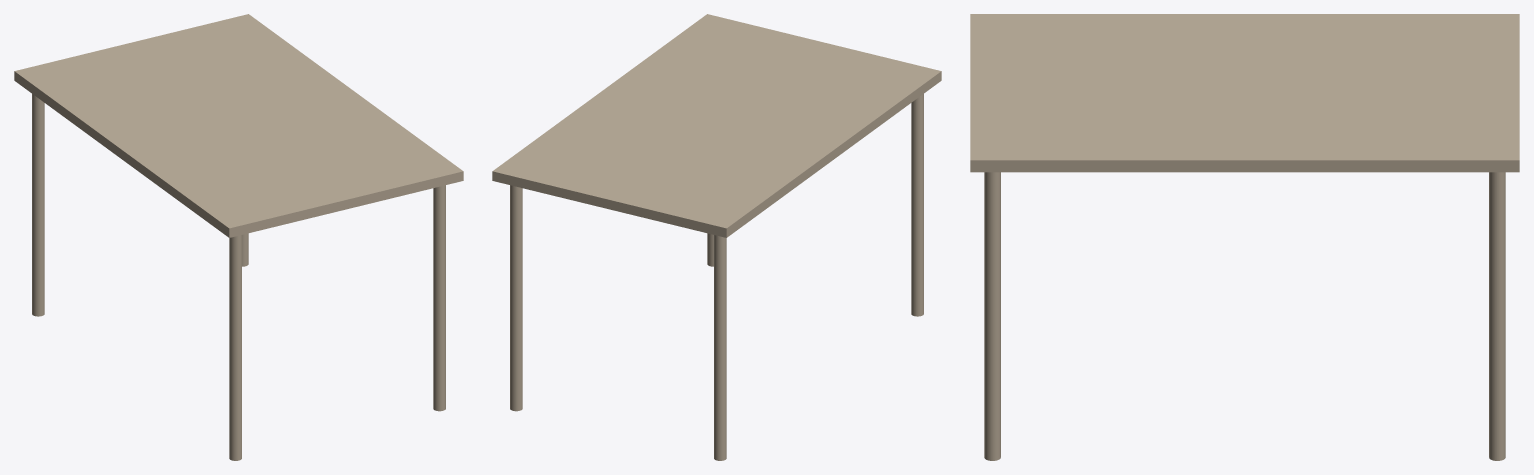
The model's file is 3dcodebench_SimpleDesk_seed0.glb.
The picture shows the model from 3 angles, left to right: view 1: azimuth 30°, elevation 25°; view 2: azimuth 150°, elevation 25°; view 3: azimuth 270°, elevation 25°; orthographic projection. The views are drawn at different scales.
Visible parts, largest first — view 1: object; view 2: object; view 3: object.
Boxes of the visible parts, bbox=[...] form: object: bbox=[14, 14, 463, 460]; object: bbox=[492, 14, 941, 460]; object: bbox=[970, 14, 1519, 460].
Bounding box in the file's own units: 0.7452 × 0.7293 × 1.18.
